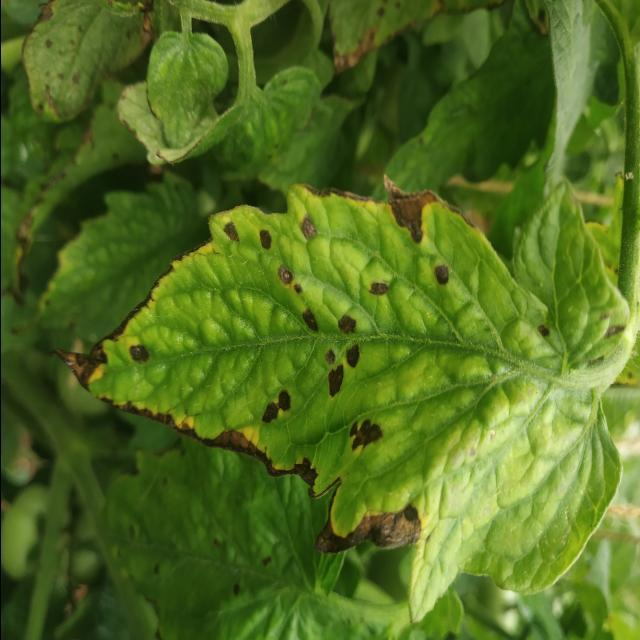Tomato mosaic virus leaf: (44, 167, 633, 563)
